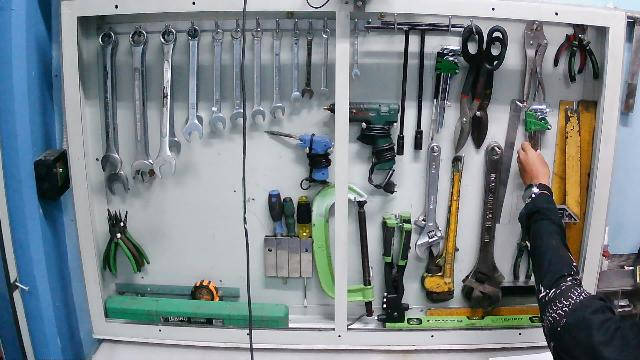kunci_l_bintang: (522, 102, 554, 179)
